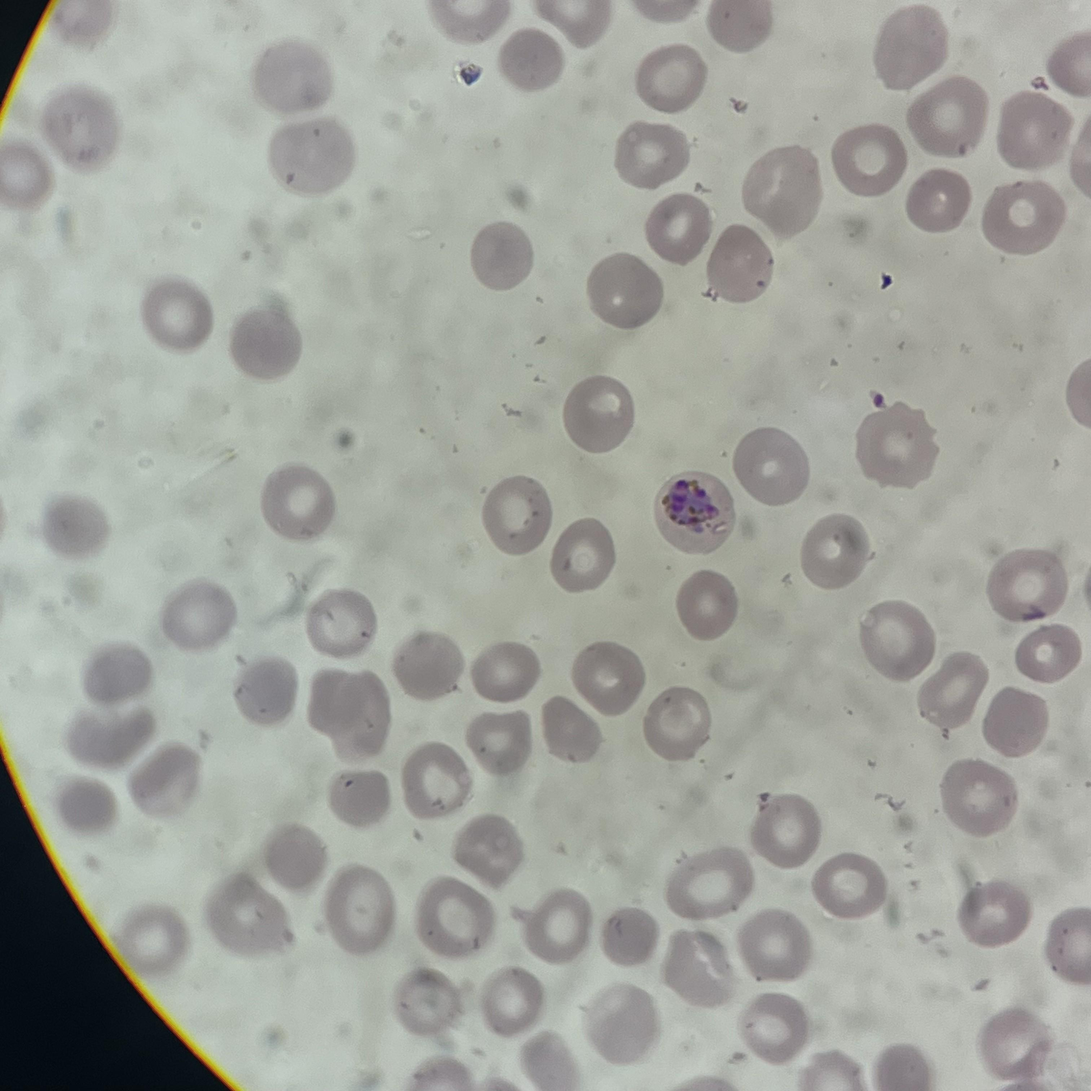Infected: (651, 466, 737, 555), (263, 117, 352, 200), (43, 83, 118, 173), (227, 304, 306, 380), (256, 37, 334, 111), (162, 573, 234, 653), (126, 742, 198, 819), (262, 460, 332, 539), (67, 700, 152, 765), (142, 276, 216, 349), (303, 584, 374, 656), (80, 635, 151, 705), (472, 216, 532, 292), (46, 489, 111, 556), (237, 653, 295, 724), (56, 775, 113, 840), (0, 143, 47, 206)
Uninfected: (202, 873, 305, 963), (740, 143, 819, 244), (858, 405, 942, 491), (661, 846, 756, 921), (907, 77, 988, 158), (875, 4, 945, 96), (980, 180, 1067, 254), (410, 877, 494, 953), (939, 761, 1020, 839), (856, 597, 933, 679), (578, 987, 657, 1066), (588, 253, 665, 334), (401, 737, 476, 820), (325, 866, 391, 958), (731, 427, 810, 503), (639, 687, 716, 763), (657, 929, 734, 1005), (614, 118, 693, 191), (515, 884, 591, 959), (832, 120, 906, 197), (564, 371, 631, 456), (703, 223, 776, 301), (112, 898, 185, 975), (484, 474, 553, 555), (986, 550, 1069, 617), (733, 990, 810, 1062), (802, 506, 868, 590), (645, 190, 715, 268), (1002, 89, 1072, 167), (919, 651, 986, 732), (574, 640, 647, 714), (813, 848, 887, 921), (332, 669, 390, 761), (750, 793, 820, 869), (981, 687, 1051, 763), (983, 1003, 1051, 1079), (741, 907, 810, 980), (260, 819, 325, 894), (455, 817, 526, 884), (675, 568, 738, 643), (392, 965, 459, 1035), (553, 517, 613, 593), (637, 46, 706, 112), (496, 28, 566, 93), (396, 633, 464, 699), (483, 962, 543, 1035), (470, 640, 538, 703), (1013, 622, 1080, 685), (466, 709, 535, 770), (538, 698, 600, 763), (905, 169, 973, 228), (601, 907, 657, 972), (963, 878, 1022, 939), (329, 772, 396, 825), (710, 0, 774, 54), (305, 669, 359, 731)
